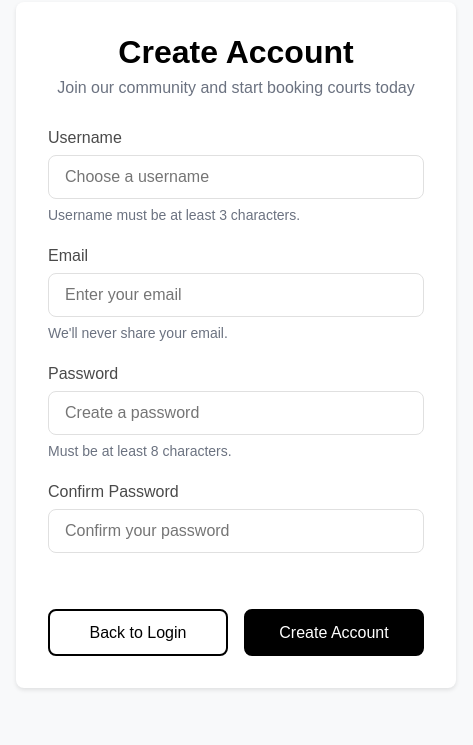
Scenario: Register Component › validates password length
Type "test@test.com" into the field with placeholder "Enter your email". click: (236, 295)
box: 48,273 -> 424,317
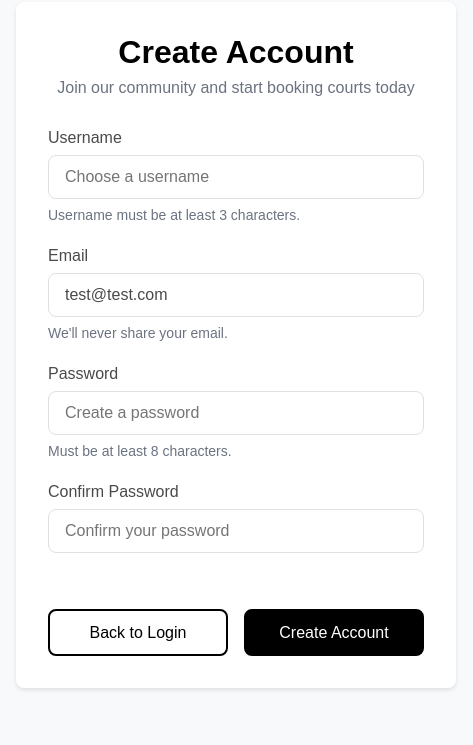
Type "testuser" into the field with placeholder "Choose a username". click: (236, 177)
box: 48,155 -> 424,199
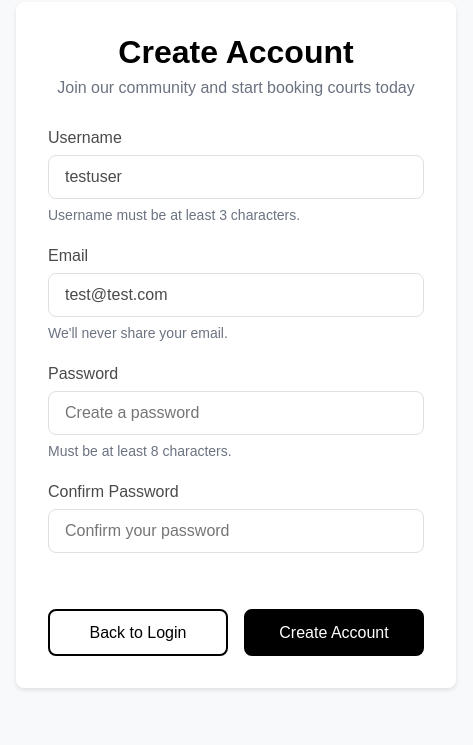
Type "123" into the password field with placeholder "Create a password". click: (236, 413)
box: 48,391 -> 424,435
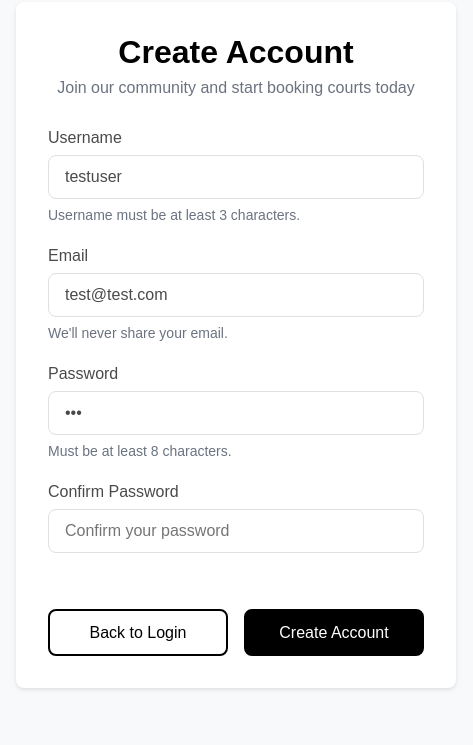
Type "123" into the password field with placeholder "Confirm your password". click: (236, 531)
box: 48,509 -> 424,553
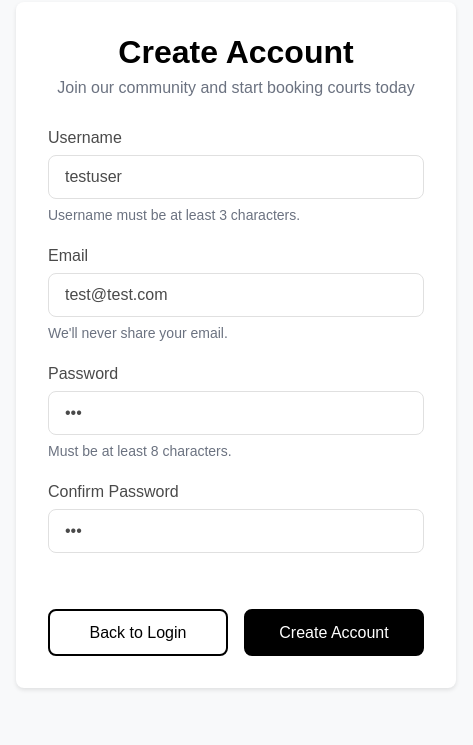
Click the button "Create Account". click: (334, 632)
box: 244,609 -> 424,656
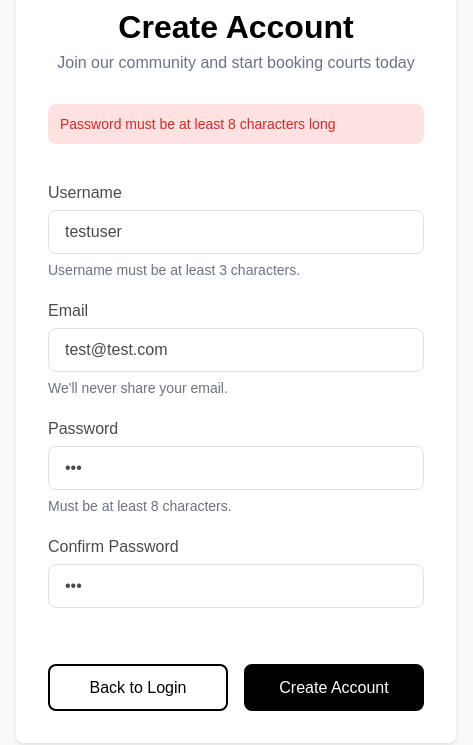
Now the text "Password must be at least 8 characters long" is shown, box 48,104 -> 424,144
